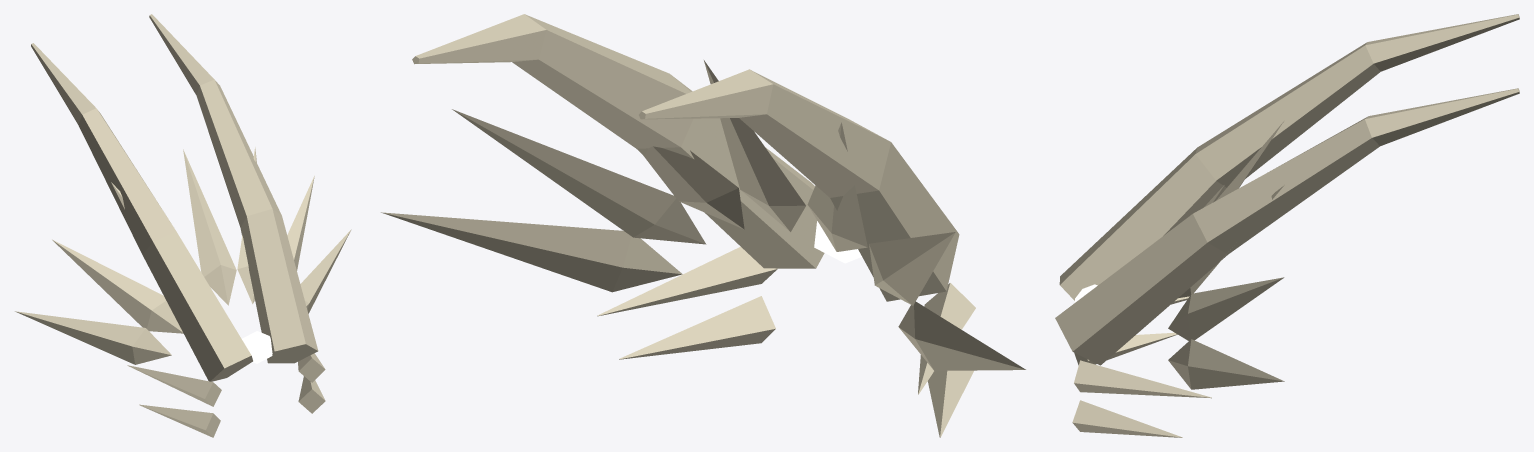
The model's file is horns-drake.glb.
The picture shows the model from 3 angles, left to right: view 1: azimuth 30°, elevation 25°; view 2: azimuth 150°, elevation 25°; view 3: azimuth 270°, elevation 25°; orthographic projection. The views are drawn at different scales.
Visible parts, largest first — view 1: horns; view 2: horns; view 3: horns.
Part boxes in pixels (bbox=[...]): horns: bbox=[15, 14, 351, 437]; horns: bbox=[381, 14, 1025, 437]; horns: bbox=[1055, 14, 1519, 437].
Bounding box in the file's own units: 0.3424 × 0.2638 × 0.3177.
